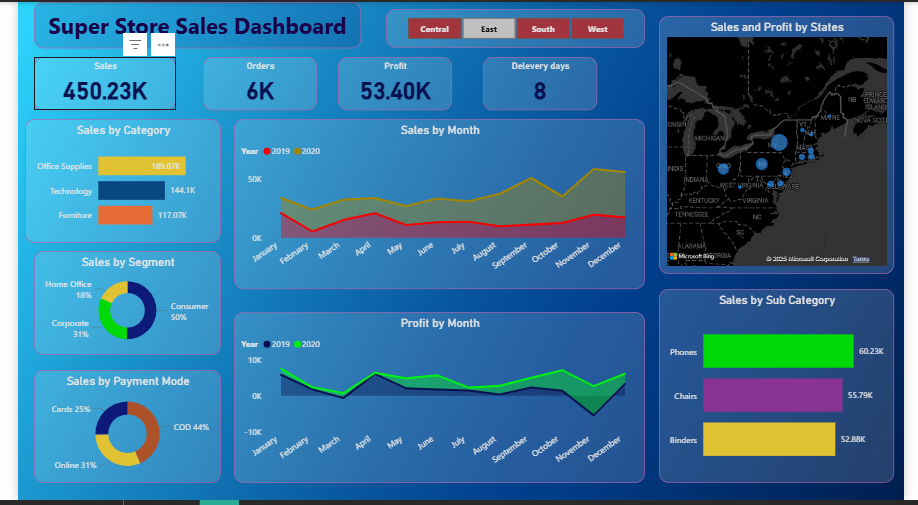

This screenshot's page, from the dashboard's own definition file:
{"tool":"powerbi","page":{"name":"Page 1","canvas":[1280,720],"ordinal":0},"visuals":[{"type":"clusteredBarChart","title":" Sales by Category","fields":{"Category":["SuperStore_Sales_Dataset.Category"],"Y":["Sum(SuperStore_Sales_Dataset.Sales)"]},"box":[10.1,169.2,283.4,179.3],"z":0},{"type":"clusteredBarChart","title":" Sales by Sub Category","fields":{"Category":["SuperStore_Sales_Dataset.Sub-Category"],"Y":["Sum(SuperStore_Sales_Dataset.Sales)"]},"box":[926.7,414.9,339.8,280.5],"z":1000},{"type":"stackedAreaChart","title":"Profit by Month","fields":{"Category":["SuperStore_Sales_Dataset.Order Date.Variation.Date Hierarchy.Month","SuperStore_Sales_Dataset.Order Date.Variation.Date Hierarchy.Day"],"Series":["SuperStore_Sales_Dataset.Order Date.Variation.Date Hierarchy.Year"],"Y":["Sum(SuperStore_Sales_Dataset.Profit)"]},"box":[312.3,448.2,594.2,247.2],"z":2000},{"type":"stackedAreaChart","title":"Sales by Month","fields":{"Y":["Sum(SuperStore_Sales_Dataset.Sales)"],"Category":["SuperStore_Sales_Dataset.Order Date.Variation.Date Hierarchy.Month","SuperStore_Sales_Dataset.Order Date.Variation.Date Hierarchy.Day"],"Series":["SuperStore_Sales_Dataset.Order Date.Variation.Date Hierarchy.Year"]},"box":[312.3,169.2,594.2,245.8],"z":3000},{"type":"map","title":"Sales and Profit by States","fields":{"Size":["Sum(SuperStore_Sales_Dataset.Sales)"],"Category":["SuperStore_Sales_Dataset.State"]},"box":[926.7,20.2,339.8,373],"z":4000},{"type":"donutChart","title":"Sales by Segment","fields":{"Category":["SuperStore_Sales_Dataset.Segment"],"Y":["Sum(SuperStore_Sales_Dataset.Sales)"]},"box":[23.1,360,270.4,150.4],"z":5000},{"type":"donutChart","title":" Sales by Payment Mode","fields":{"Category":["SuperStore_Sales_Dataset.Payment Mode"],"Y":["Sum(SuperStore_Sales_Dataset.Sales)"]},"box":[23.1,532,270.4,163.4],"z":6000},{"type":"slicer","fields":{"Values":["SuperStore_Sales_Dataset.Region"]},"box":[532,10.1,374.5,56.4],"z":7000},{"type":"textbox","box":[23.1,0,472.8,66.5],"z":8000},{"type":"card","title":"Sales","fields":{"Values":["Sum(SuperStore_Sales_Dataset.Sales)"]},"box":[23.1,79.5,205.3,76.6],"z":9000},{"type":"card","title":"Orders","fields":{"Values":["Sum(SuperStore_Sales_Dataset.Quantity)"]},"box":[267.5,79.5,164.8,76.6],"z":10000},{"type":"card","title":"Profit","fields":{"Values":["Sum(SuperStore_Sales_Dataset.Profit)"]},"box":[462.7,79.5,164.8,76.6],"z":11000},{"type":"card","title":"Delevery days","fields":{"Values":["Avg(SuperStore_Sales_Dataset.AvgDelivery)"]},"box":[672.3,79.5,164.8,76.6],"z":12000}]}

Visuals, with their boxes in screenshot pixels (x1, y1, x2, y2), scaled from the page's 1280x720 canvas onto the 918x505 screenshot:
" Sales by Category" clusteredBarChart: crop(7, 119, 210, 244)
" Sales by Sub Category" clusteredBarChart: crop(665, 291, 908, 488)
"Profit by Month" stackedAreaChart: crop(224, 314, 650, 488)
"Sales by Month" stackedAreaChart: crop(224, 119, 650, 291)
"Sales and Profit by States" map: crop(665, 14, 908, 276)
"Sales by Segment" donutChart: crop(17, 252, 210, 358)
" Sales by Payment Mode" donutChart: crop(17, 373, 210, 488)
slicer - SuperStore_Sales_Dataset.Region: crop(382, 7, 650, 47)
textbox: crop(17, 0, 356, 47)
"Sales" card: crop(17, 56, 164, 109)
"Orders" card: crop(192, 56, 310, 109)
"Profit" card: crop(332, 56, 450, 109)
"Delevery days" card: crop(482, 56, 600, 109)
